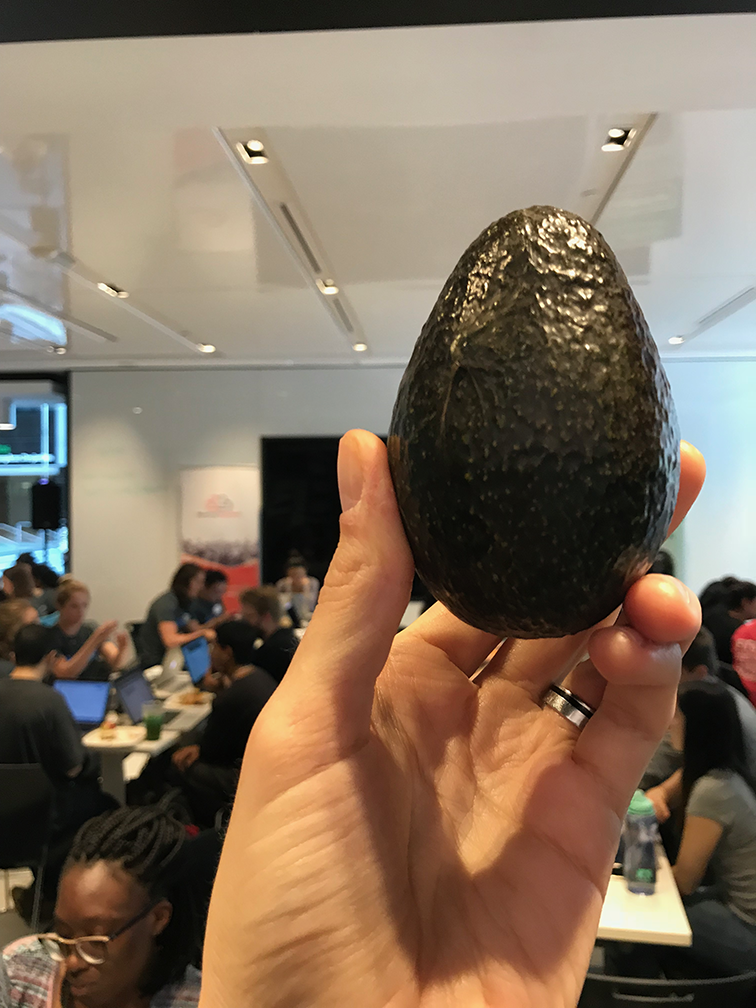avocado: (383, 180, 691, 646)
